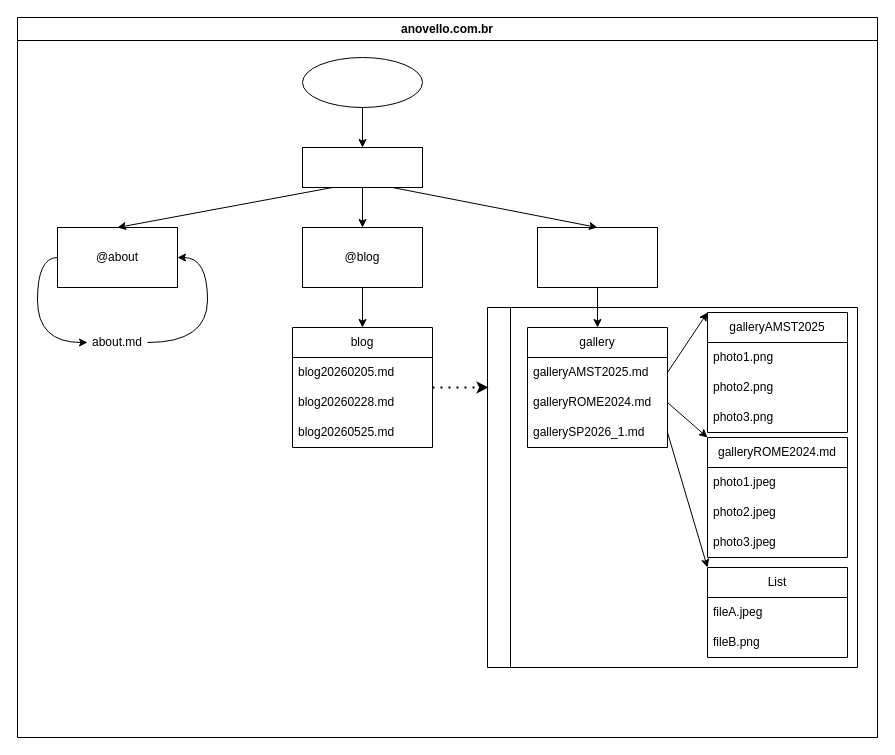
Image size: 895x755. Some labels were removed from this diagram. Each missing label, with the box of its shape:
@gallery: (536, 226, 658, 288)
@home: (302, 146, 422, 188)
conteinerGallery: (486, 306, 858, 668)
Site: (302, 56, 422, 108)
